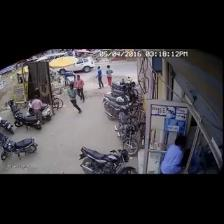person: (161, 135, 186, 174), (68, 82, 81, 113), (31, 96, 44, 124), (75, 75, 84, 101), (96, 66, 104, 88), (106, 66, 112, 87)
